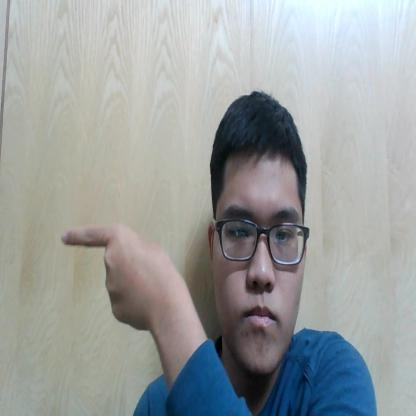right: (52, 216, 190, 350)
